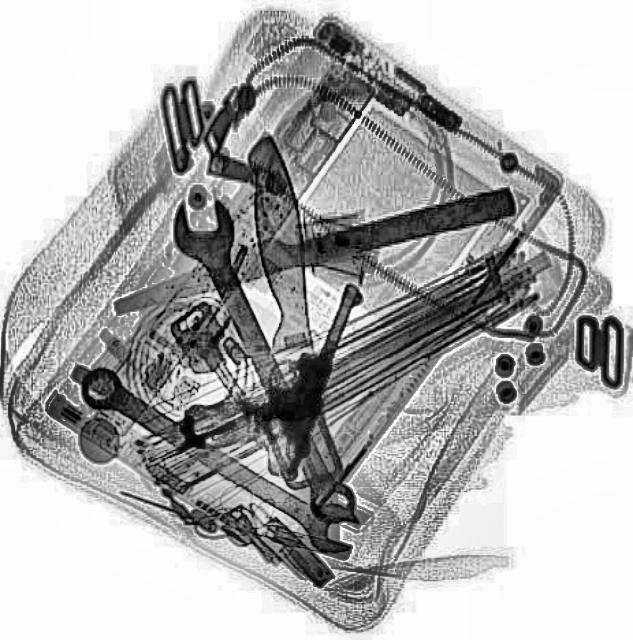Gun: (171, 247, 369, 478)
Knife: (107, 181, 517, 315), (246, 130, 320, 478)
Wrench: (157, 187, 371, 531), (68, 355, 368, 561)
